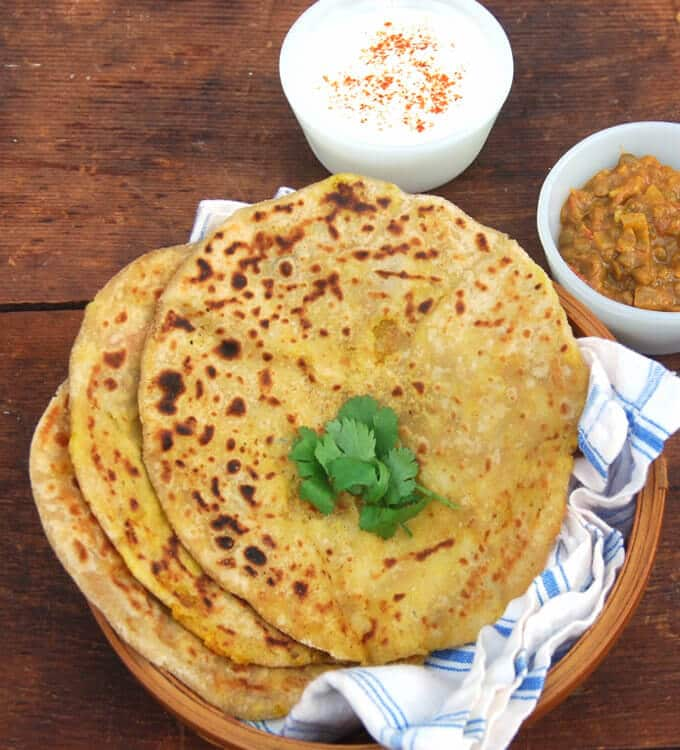aloo_paratha: (26, 169, 588, 727)
